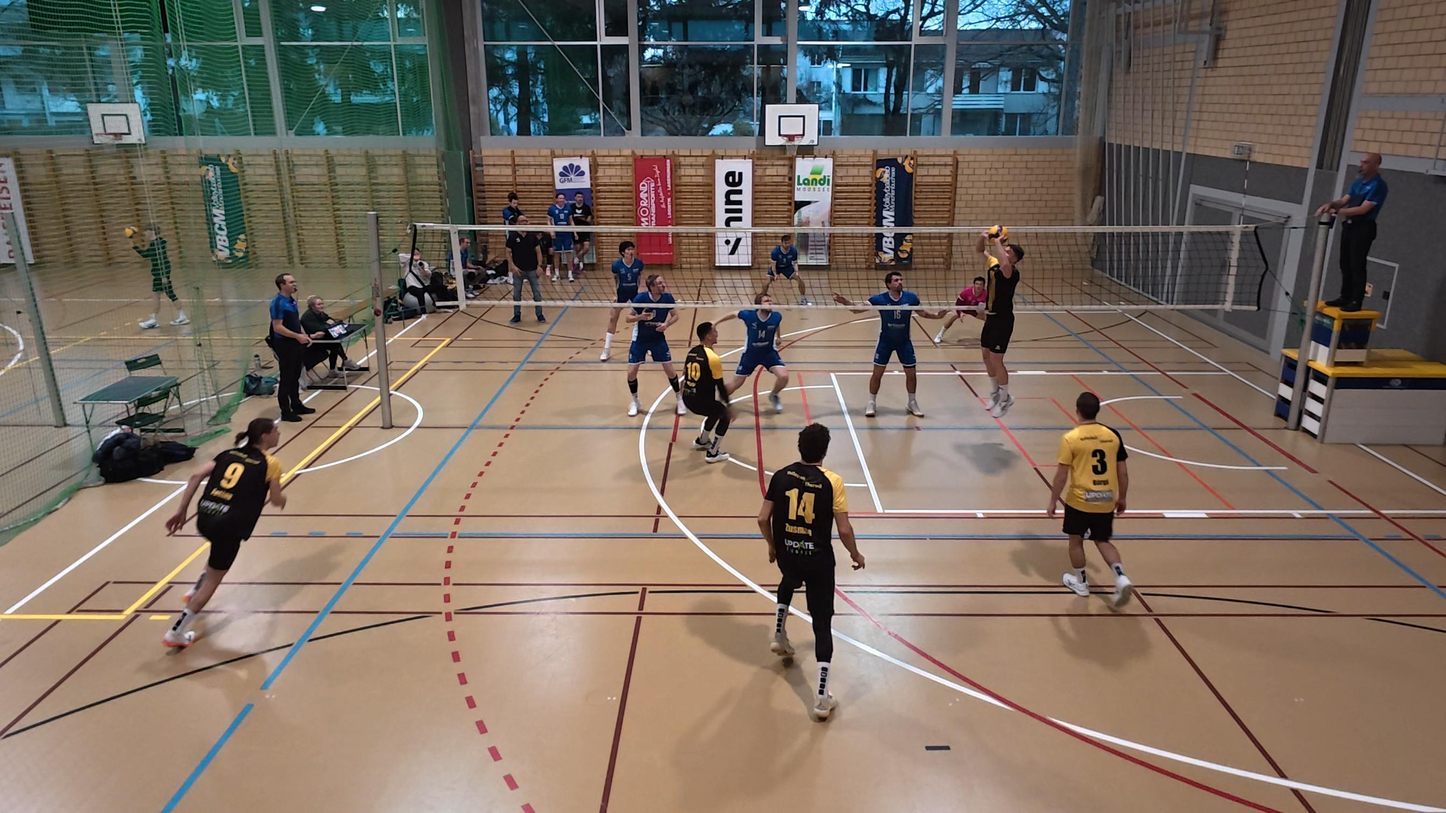Player: (760, 423, 864, 719), (163, 418, 286, 647), (1047, 391, 1133, 610), (836, 272, 927, 417), (718, 291, 790, 413), (626, 274, 683, 416), (679, 321, 735, 463), (601, 240, 644, 361), (933, 275, 987, 344), (761, 234, 811, 308)
Set: (975, 234, 1026, 415)
ball: (988, 223, 1010, 240)
